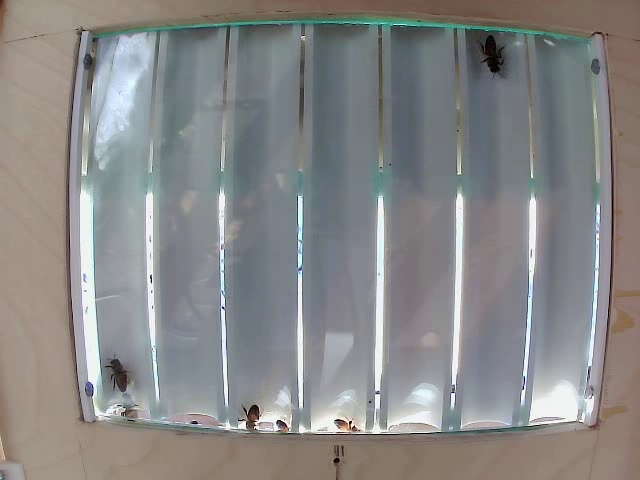bee: (100, 366, 140, 395), (484, 44, 517, 78)
